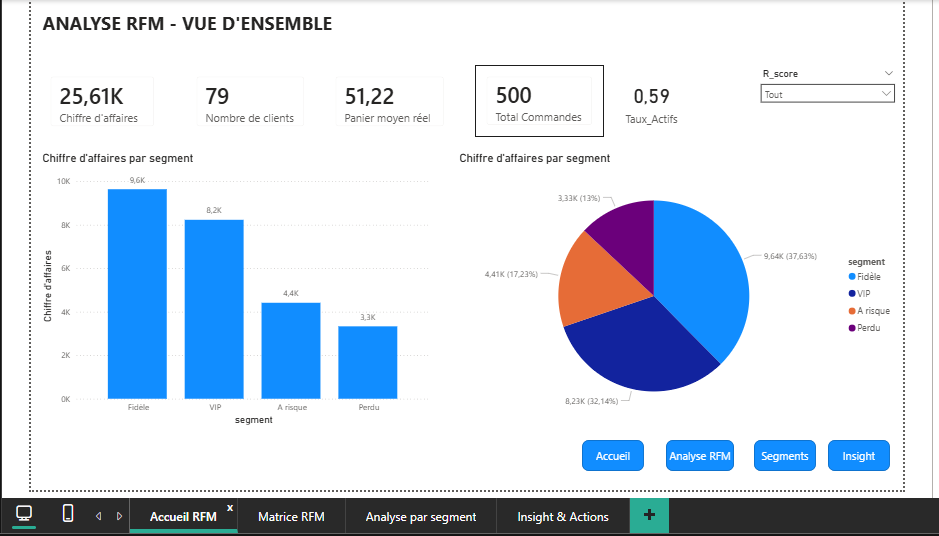

What the dashboard file says about the page in this screenshot:
{"tool":"powerbi","page":{"name":"Stratégie","canvas":[1280,720],"ordinal":0},"visuals":[{"type":"cardVisual","fields":{"Data":["Sheet1.Total CA"]},"box":[11.8,0,186.5,149.5],"z":0},{"type":"cardVisual","fields":{"Data":["Sheet1.Nb Clients"]},"box":[221.6,0,183.1,150],"z":1},{"type":"cardVisual","fields":{"Data":["Sheet1.Panier moyen réel"]},"box":[418.4,0,221.6,150],"z":2},{"type":"cardVisual","fields":{"Data":["Sheet1.Total Commandes"]},"box":[684,0,231.2,150],"z":3},{"type":"clusteredColumnChart","fields":{"Category":["Sheet1.segment"],"Y":["Sheet1.Total CA"]},"box":[12.9,194.5,580.6,406.2],"z":4},{"type":"pieChart","fields":{"Category":["Sheet1.segment"],"Y":["Sheet1.Total CA"]},"box":[625,194.5,655,406.2],"z":5}]}

Visuals, with their boxes on the page's 1280x720 design canvas (x1, y1, x2, y2). These are canvas units, not pixel positions in the 939x536 screenshot, which may show the page scaled, cropped or inside an application window:
cardVisual - Sheet1.Total CA: bbox=[12, 0, 198, 150]
cardVisual - Sheet1.Nb Clients: bbox=[222, 0, 405, 150]
cardVisual - Sheet1.Panier moyen réel: bbox=[418, 0, 640, 150]
cardVisual - Sheet1.Total Commandes: bbox=[684, 0, 915, 150]
clusteredColumnChart - Sheet1.segment x Sheet1.Total CA: bbox=[13, 194, 594, 601]
pieChart - Sheet1.segment x Sheet1.Total CA: bbox=[625, 194, 1280, 601]
